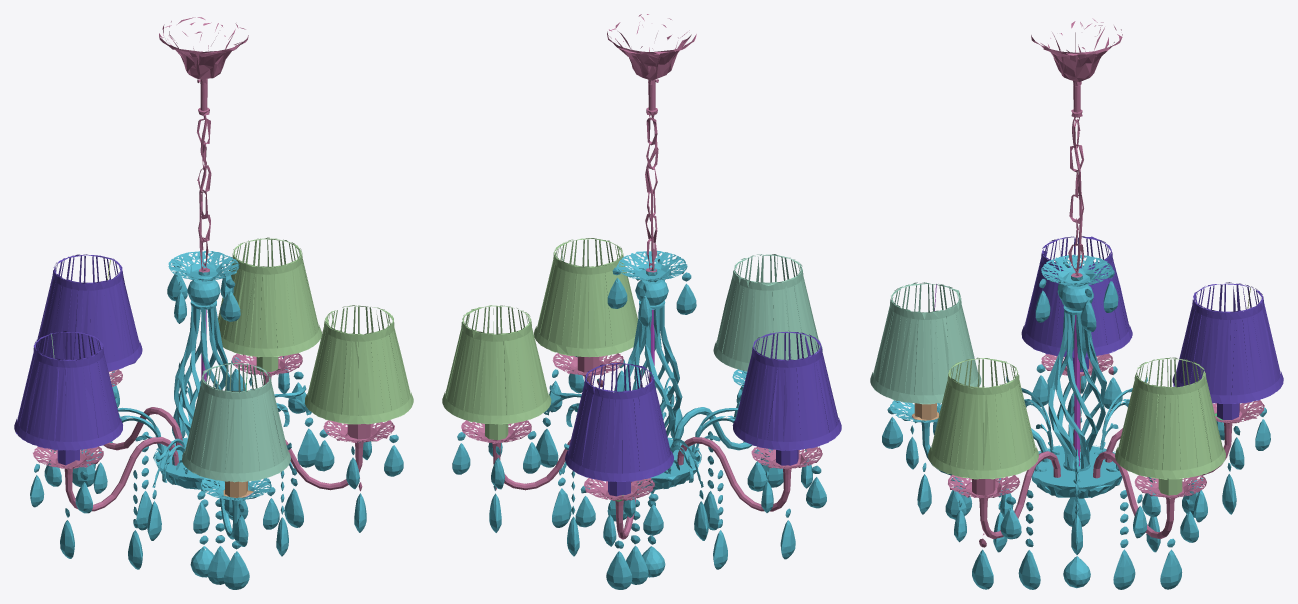
3 renders of one model, left to right at view 1: azimuth 30°, elevation 25°; view 2: azimuth 150°, elevation 25°; view 3: azimuth 270°, elevation 25°, orthographic.
Parts seen in each view (by area): view 1: world; view 2: world; view 3: world.
Part boxes in pixels (x1,y1,x2,y2): world: [14, 17, 413, 589]; world: [442, 14, 841, 589]; world: [870, 18, 1283, 589].
Bounding box in the file's own units: 0.6522 × 1 × 0.6765.
